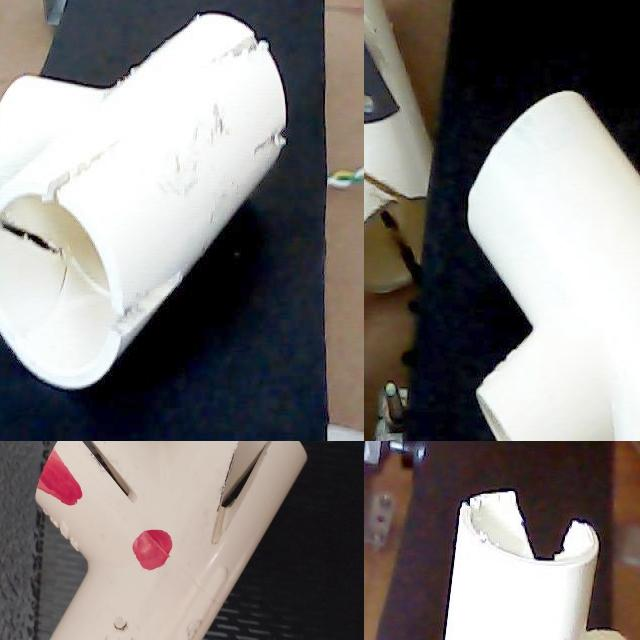Defective: (183, 0, 293, 209), (465, 494, 587, 584), (23, 152, 183, 216), (116, 240, 189, 368), (0, 201, 104, 286), (3, 494, 61, 568), (0, 457, 43, 525), (0, 448, 34, 499), (4, 445, 36, 481)
T Joint: (0, 14, 288, 393), (467, 91, 640, 441), (443, 492, 607, 640), (0, 441, 101, 640)
